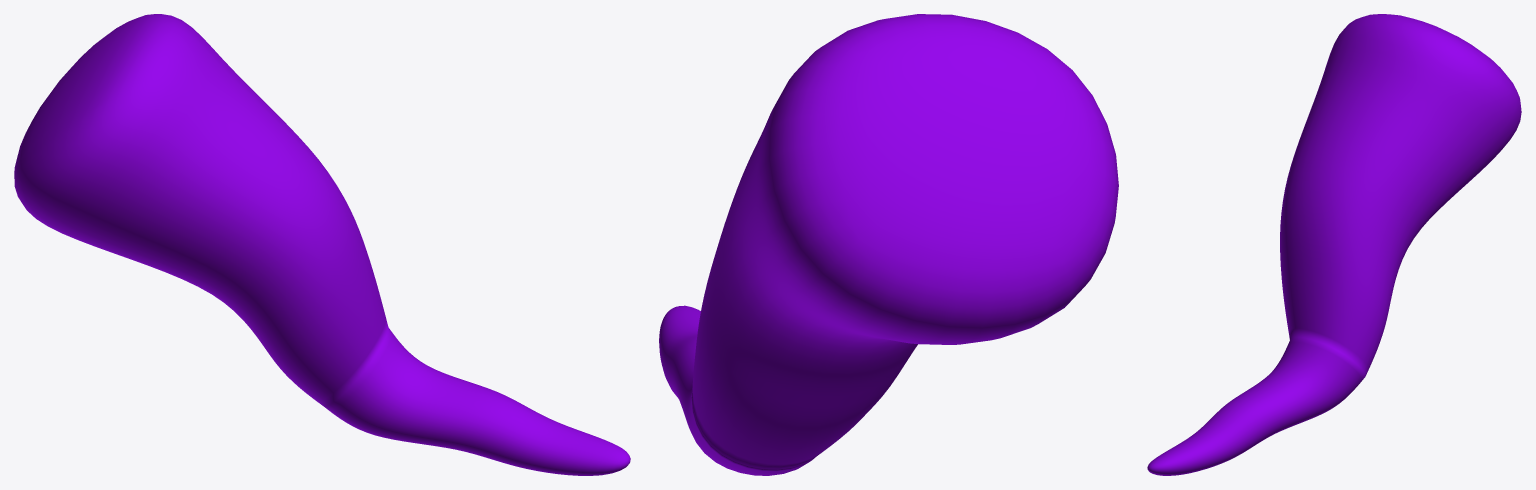
File: Tentacolo4fbx.fbx
3 views of the same model, side by side, from view 1: azimuth 30°, elevation 25°; view 2: azimuth 150°, elevation 25°; view 3: azimuth 270°, elevation 25° (orthographic). The views are drawn at different scales.
Parts seen in each view (by area): view 1: Tentacolo.002; view 2: Tentacolo.002; view 3: Tentacolo.002.
Boxes of the visible parts, x1,y1,x2,y2 form: Tentacolo.002: [14, 14, 630, 475]; Tentacolo.002: [659, 14, 1118, 475]; Tentacolo.002: [1147, 14, 1521, 475].
Bounding box in the file's own units: 107 × 93.71 × 94.25.
